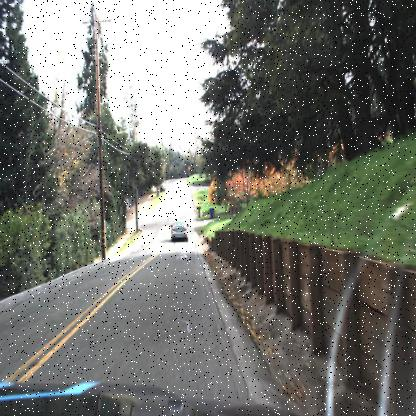car: (169, 219, 189, 249), (156, 174, 167, 192)
truck: (158, 179, 168, 197)
